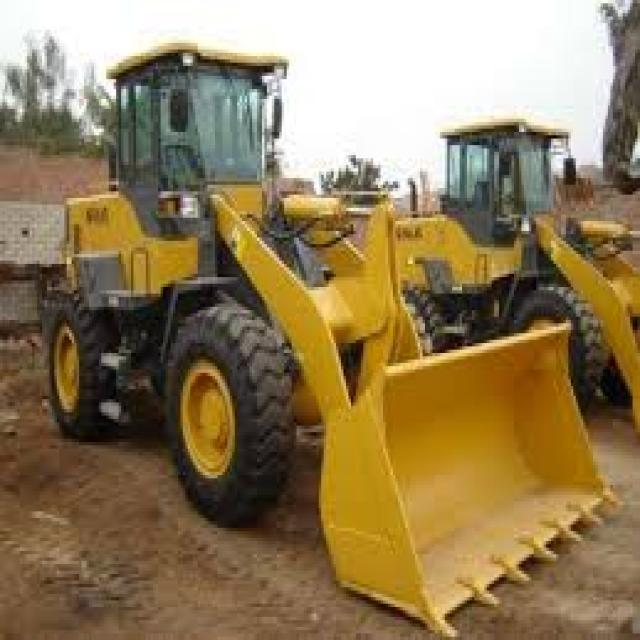buldozerpayloadergrader: (46, 36, 618, 636), (382, 108, 640, 435)
